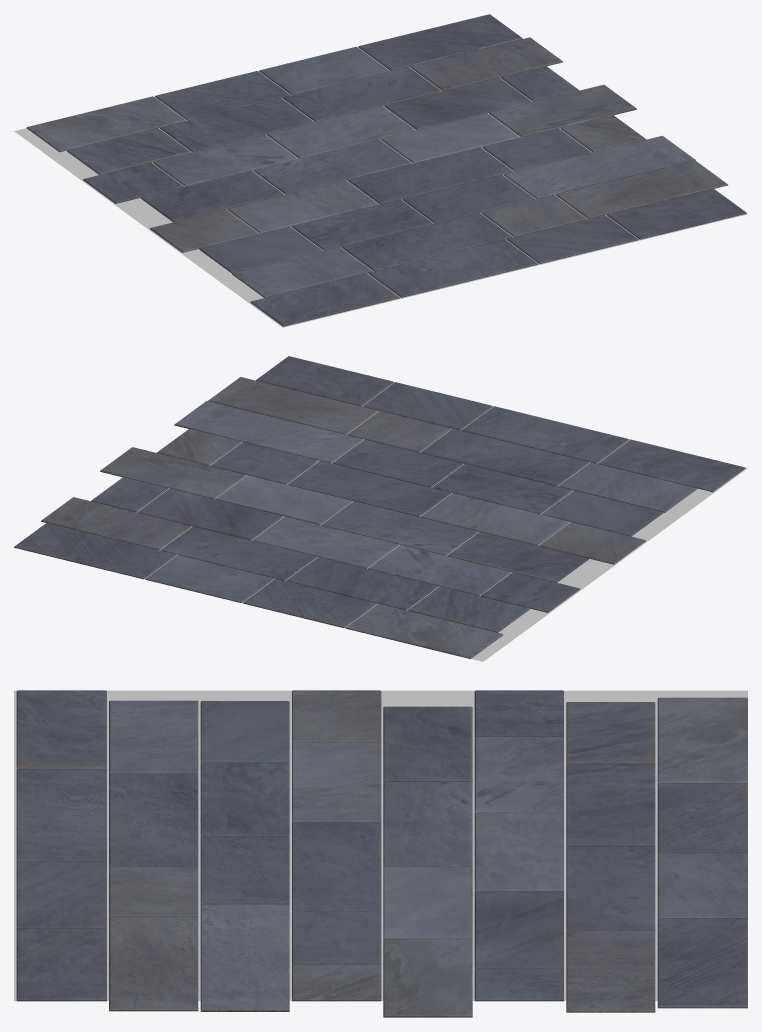
File: pavement_3.fbx
The picture shows the model from 3 angles, top to bottom: view 1: azimuth 30°, elevation 25°; view 2: azimuth 150°, elevation 25°; view 3: azimuth 270°, elevation 25°; orthographic projection. The views are drawn at different scales.
Parts seen in each view (by area): view 1: Plane.001; view 2: Plane.001; view 3: Plane.001.
Part boxes in pixels (x1,y1,x2,y2): Plane.001: (14,14,747,327); Plane.001: (14,356,747,661); Plane.001: (14,690,747,1017).
Size of the model in its own units: 211 by 0.6649 by 201.
